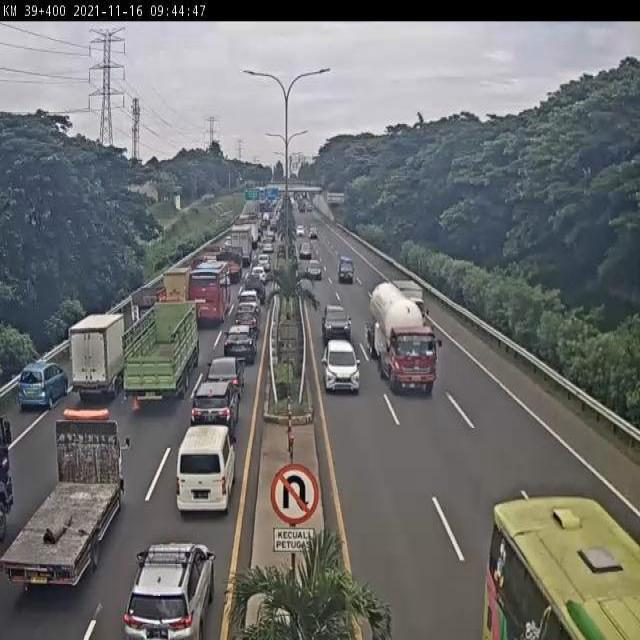car: (122, 544, 215, 639), (188, 383, 236, 447), (16, 360, 65, 409), (322, 339, 363, 392), (205, 355, 246, 396), (223, 327, 255, 365), (321, 301, 350, 336), (232, 308, 259, 335), (236, 288, 261, 316)
truck: (0, 408, 127, 588), (365, 284, 442, 391), (124, 299, 198, 404), (64, 315, 123, 403), (174, 426, 234, 510), (185, 264, 229, 327), (161, 261, 194, 308), (130, 280, 168, 320)
